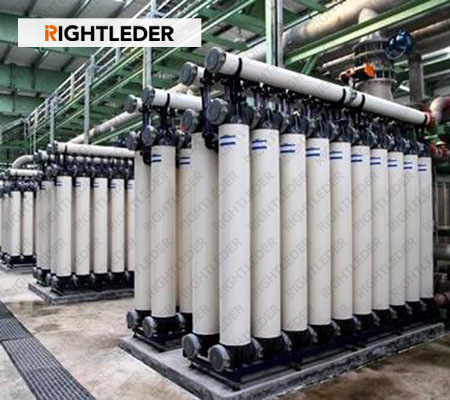oil: (2, 296, 64, 335), (285, 378, 409, 395), (408, 340, 448, 368), (359, 350, 393, 371)
